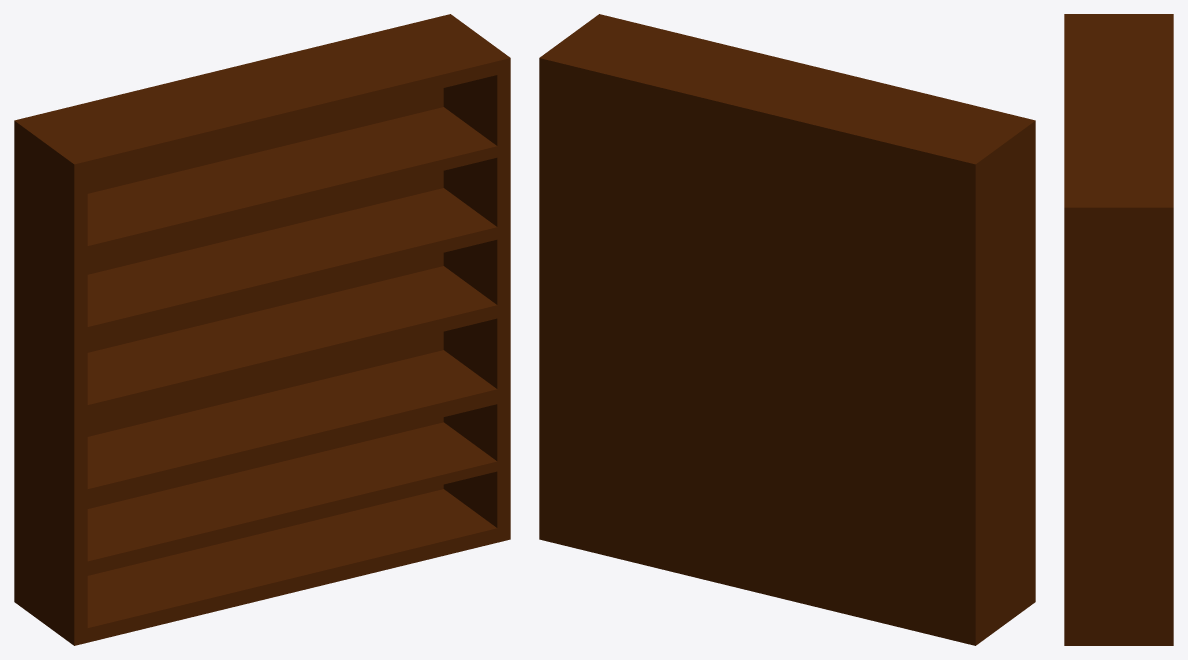
The model's file is bookshelf.fbx.
The picture shows the model from 3 angles, left to right: view 1: azimuth 30°, elevation 25°; view 2: azimuth 150°, elevation 25°; view 3: azimuth 270°, elevation 25°; orthographic projection. The views are drawn at different scales.
Visible parts, largest first — view 1: pCube11; view 2: pCube11; view 3: pCube11.
Part boxes in pixels (bbox=[...]): pCube11: bbox=[14, 14, 510, 645]; pCube11: bbox=[539, 14, 1035, 645]; pCube11: bbox=[1064, 14, 1173, 645].
Bounding box in the file's own units: 6.18 × 6.51 × 1.47.
